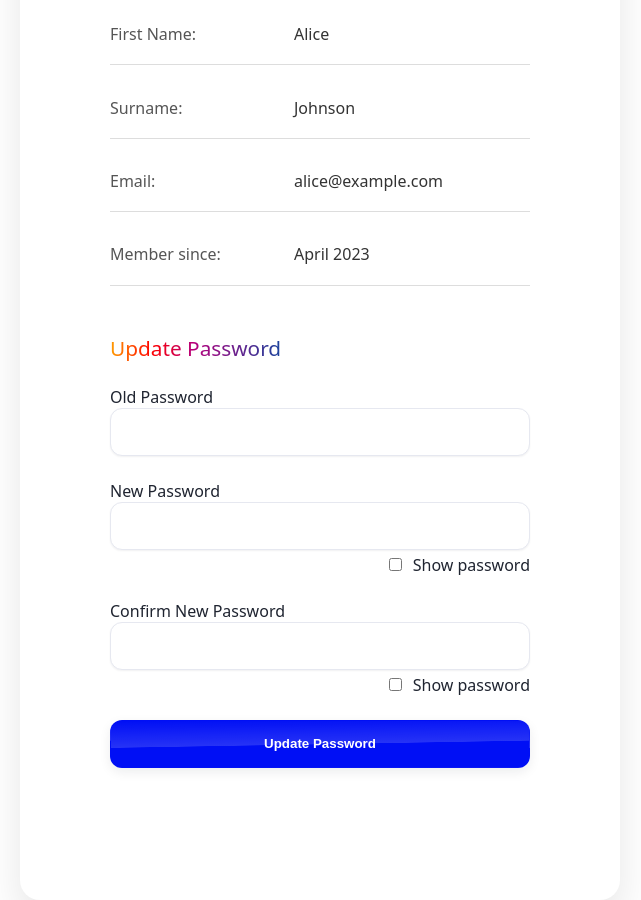
Test: Profile Component › shows validation error for weak new password
(page scrolled)
Expected: the text "Alice" is shown, [294,23,329,45]
Step 1. Type "weak" into the password field labelled "New Password" → (320, 526), box [110,502,530,550]
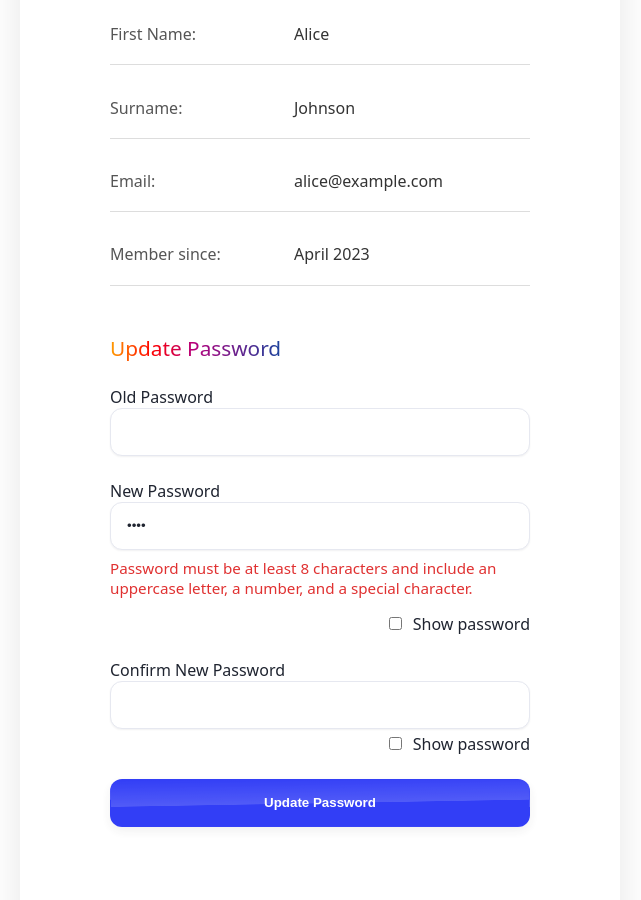
Expected: the text "Password must be at least 8 characters and include an uppercase letter, a number, and a special character." is shown, [110,558,496,598]
